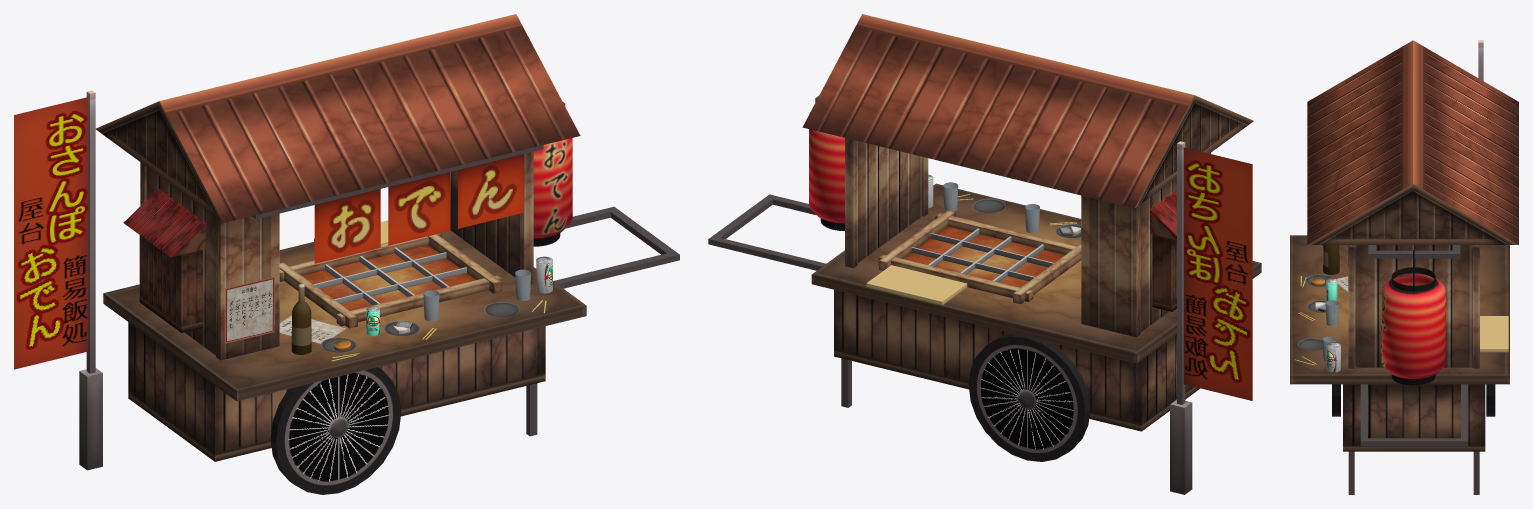
The model's file is yatai.FBX.
The picture shows the model from 3 angles, left to right: view 1: azimuth 30°, elevation 25°; view 2: azimuth 150°, elevation 25°; view 3: azimuth 270°, elevation 25°; orthographic projection. The views are drawn at different scales.
Parts seen in each view (by area): view 1: Body; view 2: Body; view 3: Body.
Part boxes in pixels (x1,y1,x2,y2): Body: (14, 14, 679, 494); Body: (708, 14, 1261, 494); Body: (1290, 40, 1518, 494).
Size of the model in its own units: 156 by 97.92 by 63.61.
